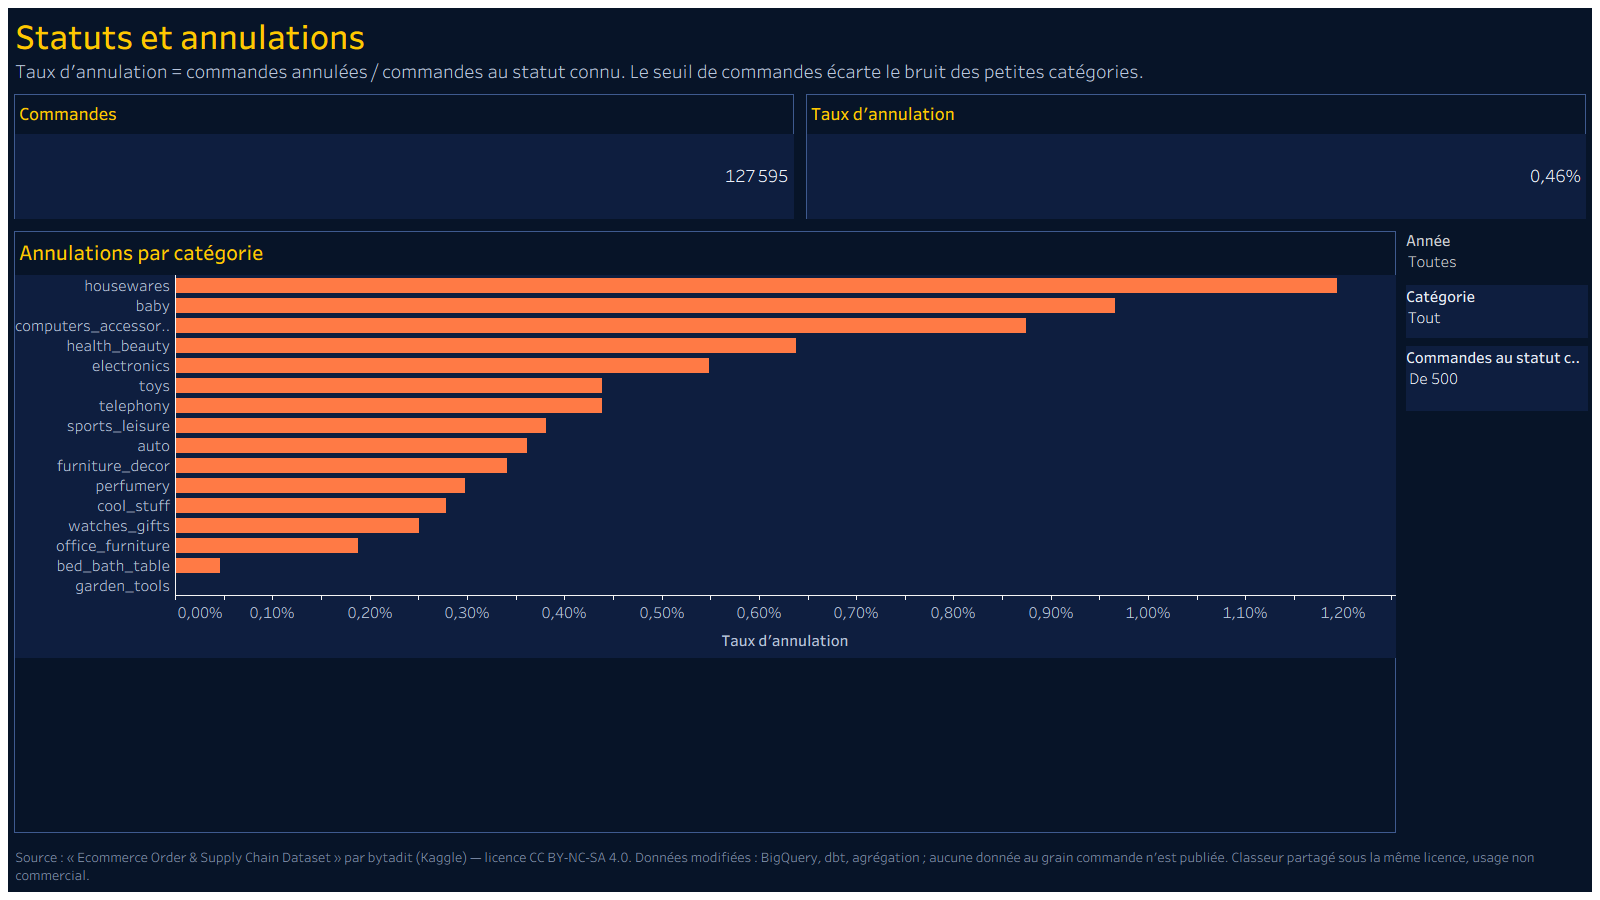

The page's visual inventory and layout, read from the dashboard file:
{"tool":"tableau","page":{"name":"Statuts et annulations","canvas":[1600,900],"ordinal":2},"visuals":[{"type":"text","box":[12.8,9,1574.4,79.4]},{"type":"worksheet","title":"KPI Commandes","mark":"Automatic","box":[12.8,88.4,787.2,136.7]},{"type":"worksheet","title":"KPI Taux d'annulation","mark":"Automatic","box":[800,88.4,787.2,136.7]},{"type":"worksheet","title":"Annulations par catégorie","mark":"Automatic","rows":["Calculation_1473408857305094"],"cols":["Calculation_1473408857505800"],"box":[12.8,225.1,1317.8,613]},{"type":"parameter","param":"[Parameters].[Paramètre 1473408854364161]","box":[1330.6,225.1,256.6,67.4]},{"type":"filter","title":"Annulations par catégorie","param":"[federated.031hxyk128uqvt1cfaucy0l2p0hk].[none:Calculation_1473408857305094:nk]","box":[1330.6,292.5,256.6,318.8]},{"type":"filter","title":"Annulations par catégorie","param":"[federated.031hxyk128uqvt1cfaucy0l2p0hk].[sum:nb_orders_statut_connu:qk]","box":[1330.6,611.3,256.6,226.8]},{"type":"text","box":[12.8,838.1,1574.4,52.9]}]}

Visuals, with their boxes in screenshot pixels (x1, y1, x2, y2), scaled from the page's 1600x900 canvas onto the 1600x900 screenshot:
text: BBox(13, 9, 1587, 88)
"KPI Commandes" worksheet: BBox(13, 88, 800, 225)
"KPI Taux d'annulation" worksheet: BBox(800, 88, 1587, 225)
"Annulations par catégorie" worksheet: BBox(13, 225, 1331, 838)
parameter: BBox(1331, 225, 1587, 292)
"Annulations par catégorie" filter: BBox(1331, 292, 1587, 611)
"Annulations par catégorie" filter: BBox(1331, 611, 1587, 838)
text: BBox(13, 838, 1587, 891)
